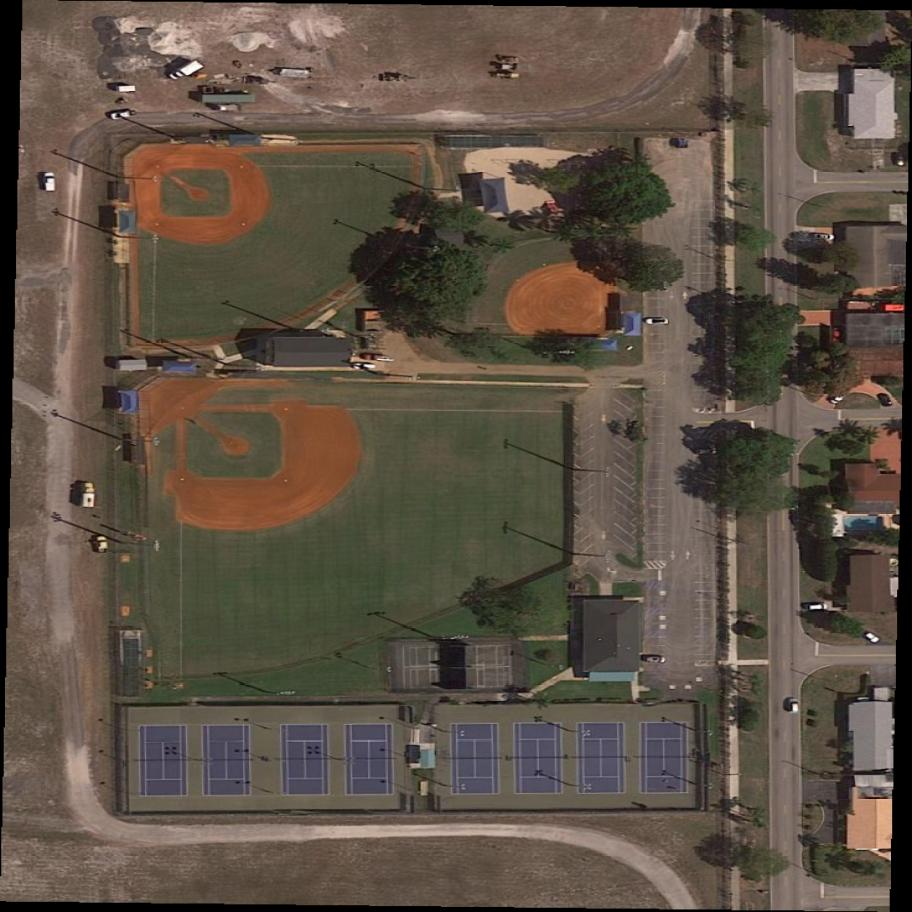large-vehicle: (164, 55, 207, 86), (78, 482, 99, 510), (40, 171, 58, 192)
small-vehicle: (857, 626, 884, 649), (108, 107, 139, 124), (828, 387, 850, 408), (361, 351, 395, 364), (877, 390, 896, 412), (806, 600, 831, 613), (643, 315, 672, 326), (642, 654, 667, 665), (809, 232, 836, 242), (784, 698, 799, 715), (95, 536, 109, 554), (353, 362, 377, 371), (893, 152, 907, 167)
